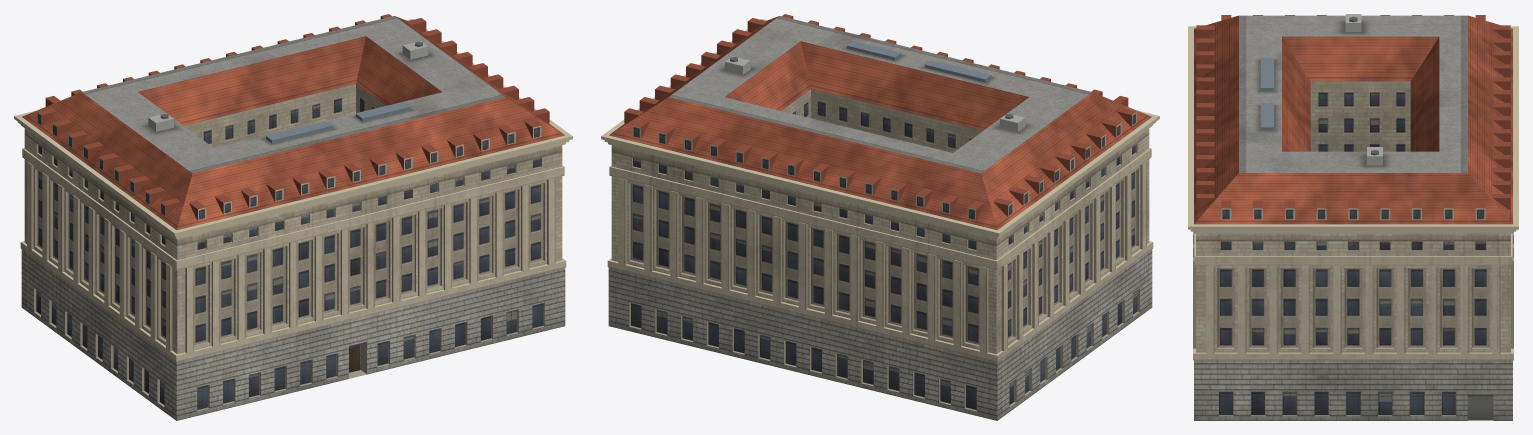
File: dc_fedtri_b.glb
The picture shows the model from 3 angles, left to right: view 1: azimuth 30°, elevation 25°; view 2: azimuth 150°, elevation 25°; view 3: azimuth 270°, elevation 25°; orthographic projection. The views are drawn at different scales.
Parts seen in each view (by area): view 1: dc_fedtri_b; view 2: dc_fedtri_b; view 3: dc_fedtri_b.
Part boxes in pixels (x1,y1,x2,y2): dc_fedtri_b: (14, 14, 572, 420); dc_fedtri_b: (601, 14, 1159, 420); dc_fedtri_b: (1188, 14, 1518, 420).
Size of the model in its own units: 66.2 by 36.95 by 46.2.
Materials: 1 (1 with a texture image).
